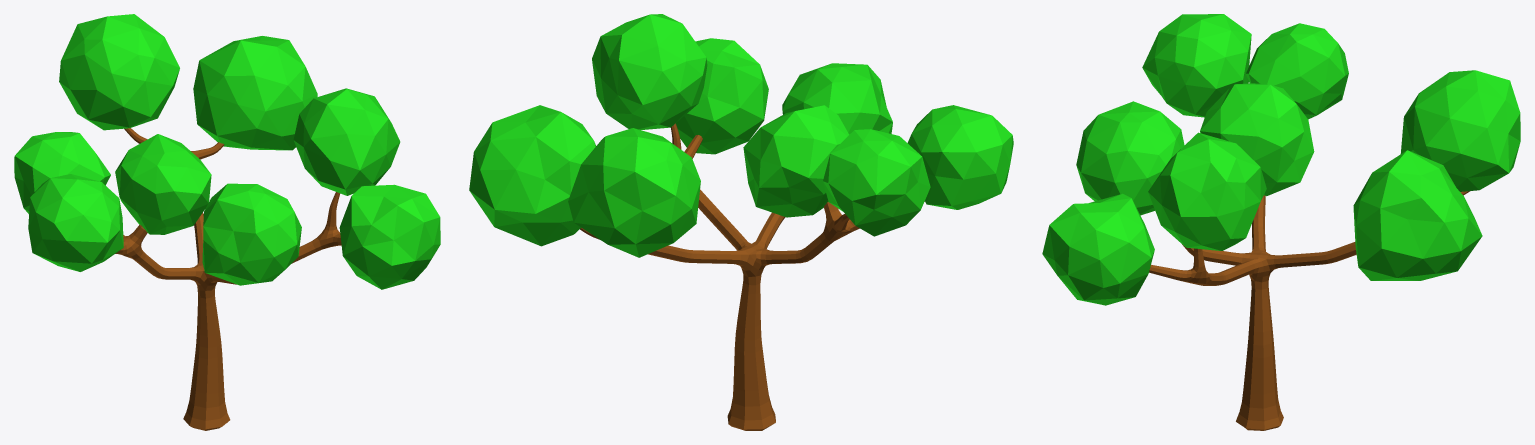
The model's file is tree2.fbx.
3 views of the same model, side by side, from view 1: azimuth 30°, elevation 25°; view 2: azimuth 150°, elevation 25°; view 3: azimuth 270°, elevation 25° (orthographic). The views are drawn at different scales.
Visible parts, largest first — view 1: Cube.001; view 2: Cube.001; view 3: Cube.001.
Part boxes in pixels (left/top/right/bottom): Cube.001: left=14, top=14, right=440, bottom=430; Cube.001: left=469, top=14, right=1013, bottom=430; Cube.001: left=1042, top=14, right=1520, bottom=430.
Bounding box in the file's own units: 845 × 721 × 881.
